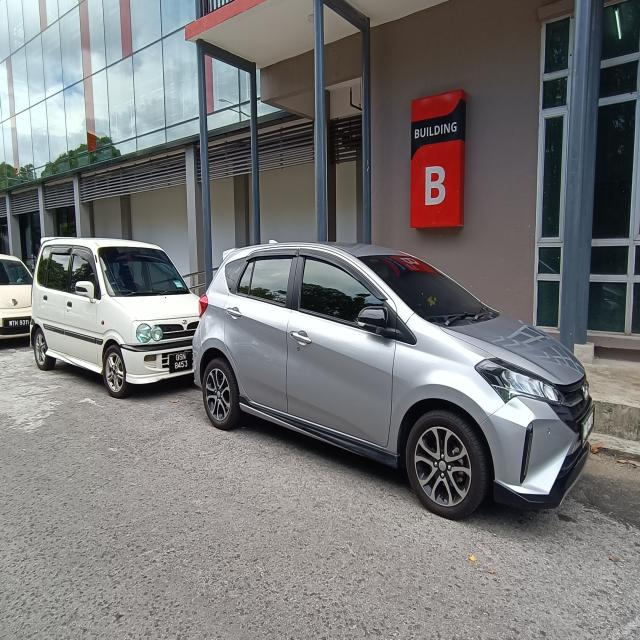PeroduaMyvi: (193, 213, 599, 525)
